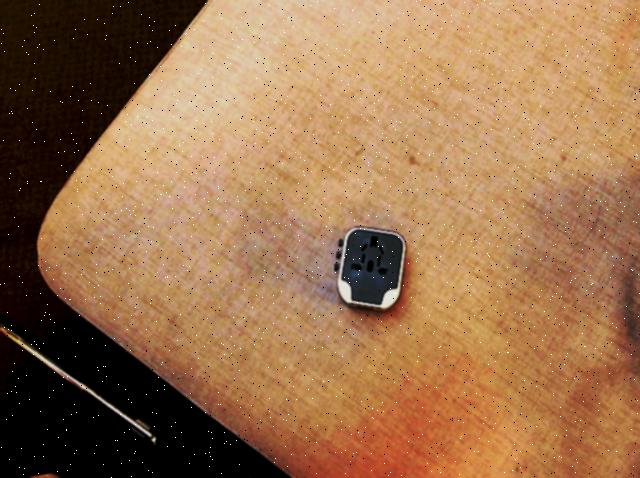adapter: (334, 226, 406, 310)
